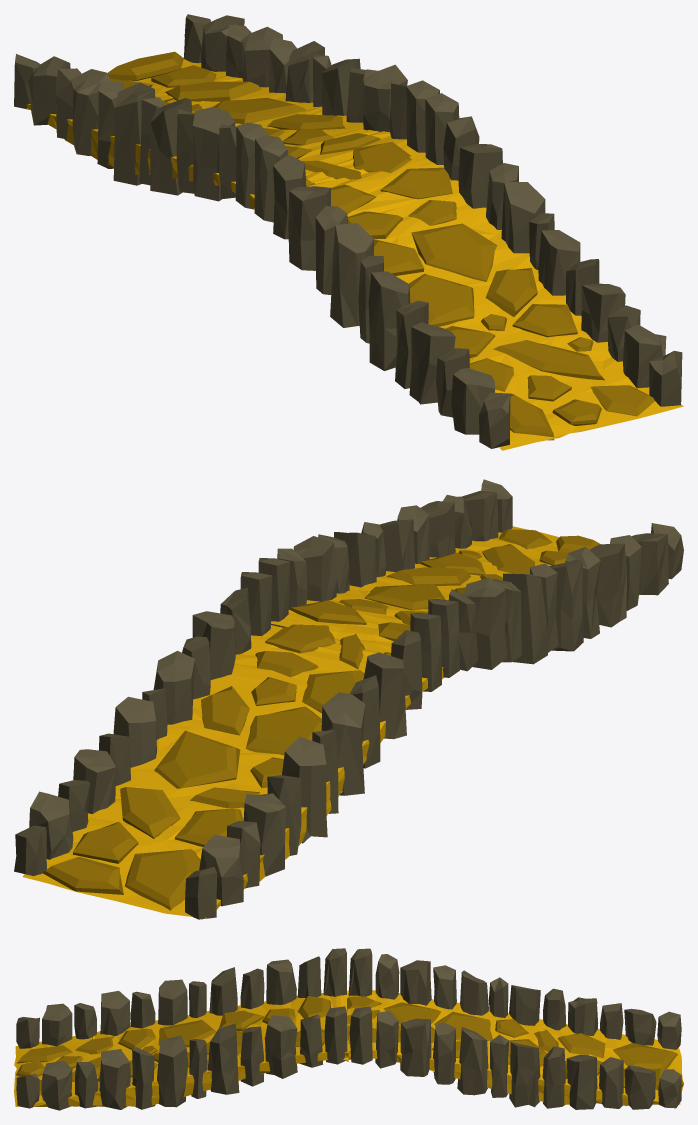
File: stm_env_BridgeFullShort.fbx
3 renders of one model, top to bottom at view 1: azimuth 30°, elevation 25°; view 2: azimuth 150°, elevation 25°; view 3: azimuth 270°, elevation 25°, orthographic. The views are drawn at different scales.
Visible parts, largest first — view 1: Bridge_Side_2, Bridge_Side_1; view 2: Bridge_Side_1, Bridge_Side_2; view 3: Bridge_Side_1, Bridge_Side_2.
Boxes of the visible parts, bbox=[...] form: Bridge_Side_2: bbox=[254, 93, 683, 450]; Bridge_Side_1: bbox=[14, 14, 439, 209]; Bridge_Side_1: bbox=[14, 572, 443, 919]; Bridge_Side_2: bbox=[258, 479, 683, 677]; Bridge_Side_1: bbox=[347, 948, 683, 1109]; Bridge_Side_2: bbox=[14, 948, 348, 1110].
Size of the model in its own units: 529 by 340 by 2087.
